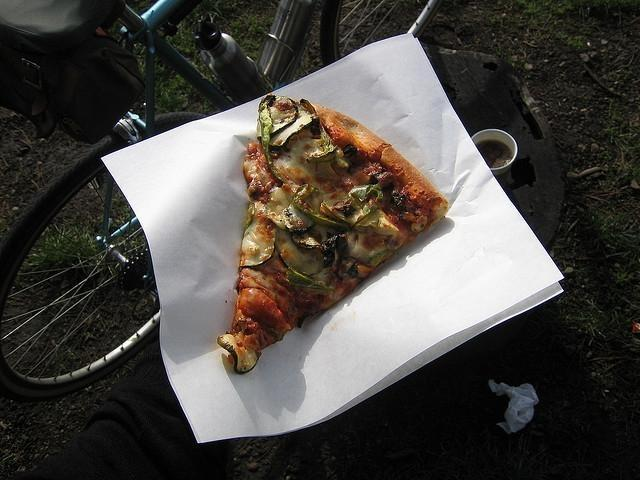bicycle: (1, 3, 444, 400)
